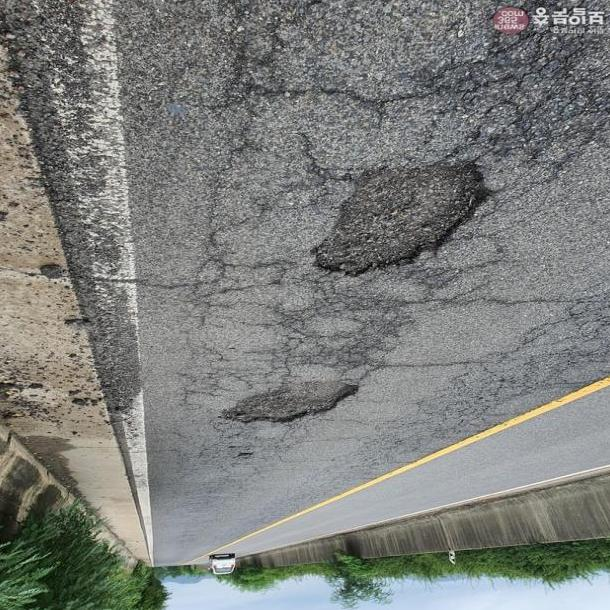pothole: (289, 163, 517, 293), (219, 366, 366, 437)
